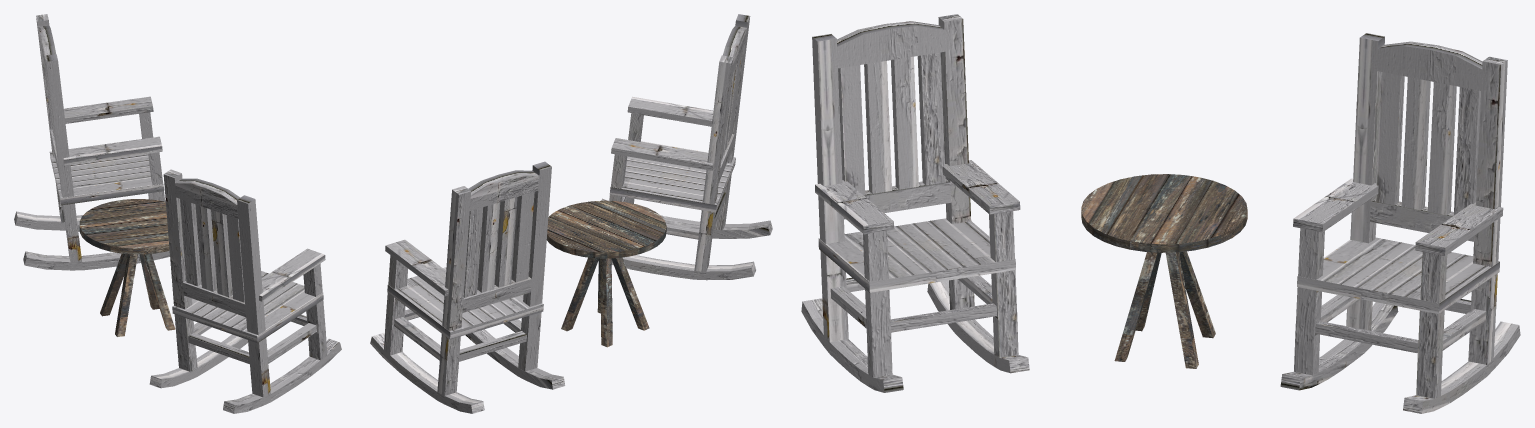
Rendered from Porch.glb.
3 views of the same model, side by side, from view 1: azimuth 30°, elevation 25°; view 2: azimuth 150°, elevation 25°; view 3: azimuth 270°, elevation 25° (orthographic). The views are drawn at different scales.
Visible parts, largest first — view 1: Porch chair2, Porch chair1, Porch table; view 2: Porch chair1, Porch chair2, Porch table; view 3: Porch chair1, Porch chair2, Porch table.
Part boxes in pixels (<box>): Porch chair2: <box>149,169,341,413</box>; Porch chair1: <box>14,14,169,270</box>; Porch table: <box>79,199,175,336</box>; Porch chair1: <box>370,161,565,413</box>; Porch chair2: <box>601,14,772,280</box>; Porch table: <box>546,200,666,347</box>; Porch chair1: <box>1280,33,1520,413</box>; Porch chair2: <box>801,14,1029,392</box>; Porch table: <box>1081,174,1247,368</box>.
Bounding box in the file's own units: 10.99 × 11.23 × 24.12.
Materials: 3 (3 with a texture image).
